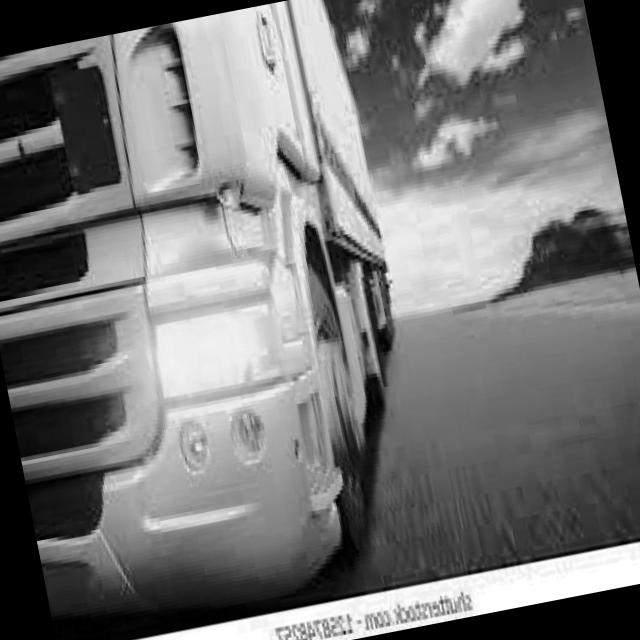Truck: (0, 0, 449, 639)
